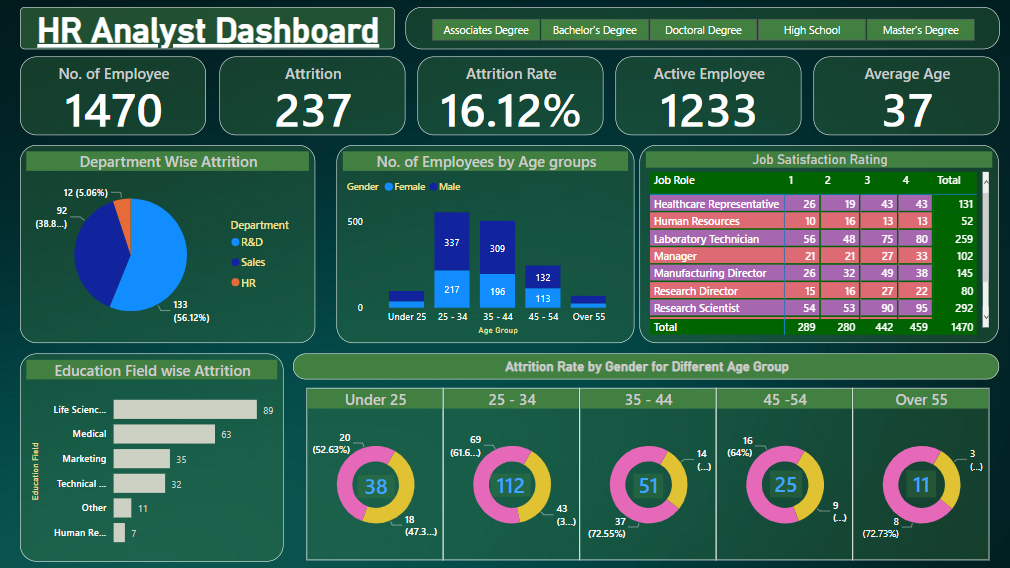

The page's visual inventory and layout, read from the dashboard file:
{"tool":"powerbi","page":{"name":"Page 1","canvas":[1280,720],"ordinal":0},"visuals":[{"type":"card","title":"No. of Employee ","fields":{"Values":["Sum(Table1.Employee Count)"]},"box":[26.4,74.6,234.6,99.4],"z":0},{"type":"card","title":"Attrition","fields":{"Values":["Sum(Table1.Attrition Count)"]},"box":[278.1,74.6,234.6,99.4],"z":1000},{"type":"card","title":"Attrition Rate","fields":{"Values":["Table1.Attrition Rate"]},"box":[528.2,74.6,234.6,99.4],"z":2000},{"type":"card","title":"Active Employee ","fields":{"Values":["Table1.Active Employee"]},"box":[778.3,74.6,234.6,99.4],"z":3000},{"type":"card","title":"Average Age","fields":{"Values":["Avg(Table1.Age)"]},"box":[1028.3,74.6,234.6,99.4],"z":4000},{"type":"pieChart","title":"Department Wise Attrition","fields":{"Category":["Table1.Department"],"Y":["Sum(Table1.Attrition Count)"]},"box":[26.4,186.4,372.8,250.1],"z":5000},{"type":"columnChart","title":"No. of Employees by Age groups","fields":{"Category":["Table1.CF_age band"],"Y":["Sum(Table1.Employee Count)"],"Series":["Table1.Gender"]},"box":[425.6,186.4,375.9,250.1],"z":6000},{"type":"pivotTable","title":"Job Satisfaction Rating ","fields":{"Rows":["Table1.Job Role"],"Columns":["Table1.Job Satisfaction"],"Values":["Sum(Table1.Employee Count)"]},"box":[809.3,186.4,453.6,250.1],"z":7000},{"type":"barChart","title":"Education Field wise Attrition","fields":{"Category":["Table1.Education Field"],"Y":["Sum(Table1.Attrition Count)"]},"box":[26.4,448.9,332.4,262.5],"z":8000},{"type":"donutChart","title":"Under 25","fields":{"Category":["Table1.Gender"],"Y":["Sum(Table1.Attrition Count)"],"Series":["Table1.CF_age band"]},"box":[388.3,492.4,172.4,217.5],"z":9000},{"type":"textbox","title":"Attrition Rate by Gender for Different Age Group","box":[371.3,448.9,891.7,32.6],"z":10000},{"type":"donutChart","title":"25 - 34","fields":{"Category":["Table1.Gender"],"Y":["Sum(Table1.Attrition Count)"],"Series":["Table1.CF_age band"]},"box":[560.8,492.4,172.4,217.5],"z":11000},{"type":"donutChart","title":"35 - 44","fields":{"Category":["Table1.Gender"],"Y":["Sum(Table1.Attrition Count)"],"Series":["Table1.CF_age band"]},"box":[733.2,492.4,172.4,217.5],"z":12000},{"type":"donutChart","title":"45 -54","fields":{"Category":["Table1.Gender"],"Y":["Sum(Table1.Attrition Count)"],"Series":["Table1.CF_age band"]},"box":[905.6,492.4,172.4,217.5],"z":13000},{"type":"donutChart","title":"Over 55","fields":{"Category":["Table1.Gender"],"Y":["Sum(Table1.Attrition Count)"],"Series":["Table1.CF_age band"]},"box":[1078.1,492.4,172.4,217.5],"z":14000},{"type":"card","fields":{"Values":["Sum(Table1.Attrition Count)"]},"box":[452,602.7,46.6,29.5],"z":15000},{"type":"card","fields":{"Values":["Sum(Table1.Attrition Count)"]},"box":[621.4,601.2,49.7,29.5],"z":16000},{"type":"card","fields":{"Values":["Sum(Table1.Attrition Count)"]},"box":[1146.4,596.5,37.3,34.2],"z":17000},{"type":"card","fields":{"Values":["Sum(Table1.Attrition Count)"]},"box":[801.6,599.6,37.3,31.1],"z":18000},{"type":"card","fields":{"Values":["Sum(Table1.Attrition Count)"]},"box":[972.4,596.5,40.4,34.2],"z":19000},{"type":"textbox","title":"HR Analyst Dashboard","box":[26.5,11.4,473.4,53],"z":20000},{"type":"slicer","fields":{"Values":["Table1.Education"]},"box":[513.1,11.4,749.8,53],"z":21000}]}

Visuals, with their boxes in screenshot pixels (x1, y1, x2, y2), scaled from the page's 1280x720 canvas onto the 1010x568 screenshot:
"No. of Employee " card: <box>21,59,206,137</box>
"Attrition" card: <box>219,59,405,137</box>
"Attrition Rate" card: <box>417,59,602,137</box>
"Active Employee " card: <box>614,59,799,137</box>
"Average Age" card: <box>811,59,997,137</box>
"Department Wise Attrition" pieChart: <box>21,147,315,344</box>
"No. of Employees by Age groups" columnChart: <box>336,147,632,344</box>
"Job Satisfaction Rating " pivotTable: <box>639,147,997,344</box>
"Education Field wise Attrition" barChart: <box>21,354,283,561</box>
"Under 25" donutChart: <box>306,388,442,560</box>
"Attrition Rate by Gender for Different Age Group" textbox: <box>293,354,997,380</box>
"25 - 34" donutChart: <box>443,388,579,560</box>
"35 - 44" donutChart: <box>579,388,715,560</box>
"45 -54" donutChart: <box>715,388,851,560</box>
"Over 55" donutChart: <box>851,388,987,560</box>
card - Sum(Table1.Attrition Count): <box>357,475,393,499</box>
card - Sum(Table1.Attrition Count): <box>490,474,530,498</box>
card - Sum(Table1.Attrition Count): <box>905,471,934,498</box>
card - Sum(Table1.Attrition Count): <box>633,473,662,498</box>
card - Sum(Table1.Attrition Count): <box>767,471,799,498</box>
"HR Analyst Dashboard" textbox: <box>21,9,394,51</box>
slicer - Table1.Education: <box>405,9,997,51</box>
